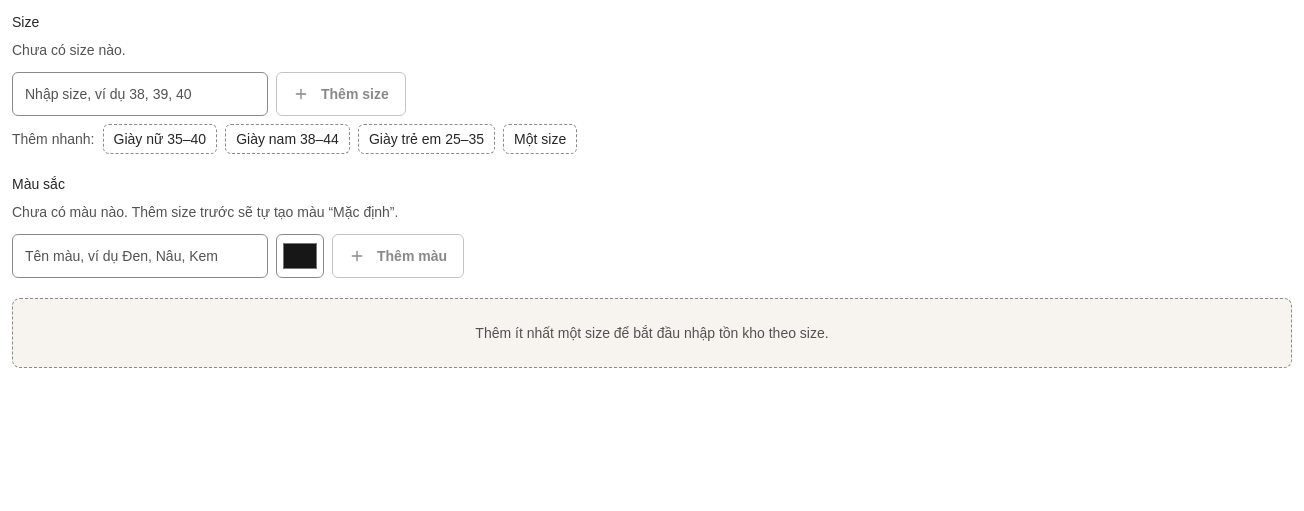
Test: VariantEditor › adds comma-separated sizes with Enter and builds the matrix
The width and height of the screenshot is (1304, 511).
In the field named "Thêm size": (140,94) [12, 72, 268, 116], type "38, 39, 38"
Then press Enter
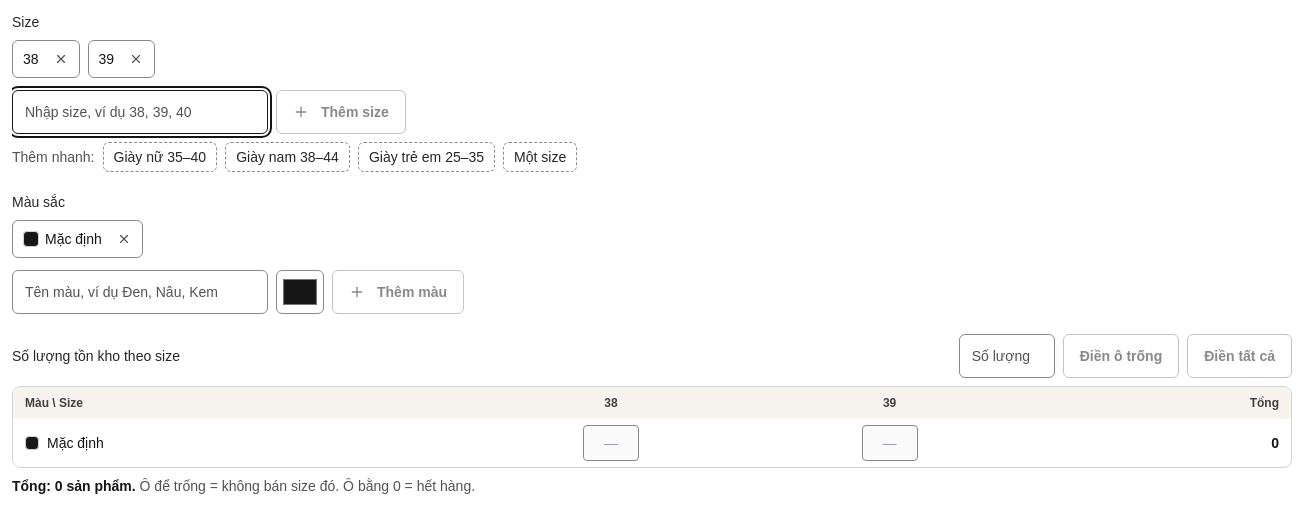
Expected: the table is shown, [13, 387, 1291, 467]
Expected: the column heading "38" is shown, [472, 387, 750, 419]
Expected: the column heading "39" is shown, [750, 387, 1029, 419]
